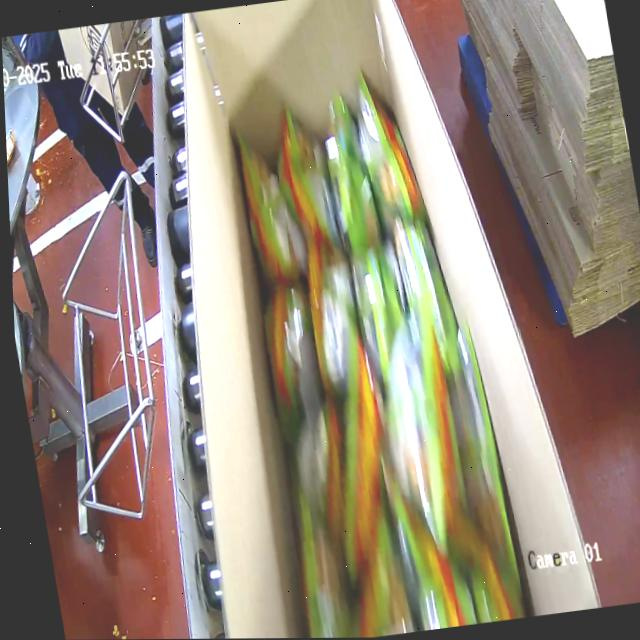YOGURT_HERB: (214, 76, 525, 638)
